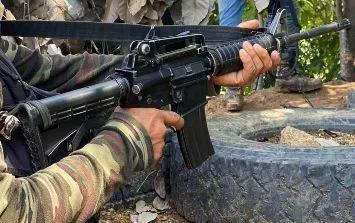larga: (15, 7, 353, 174)
